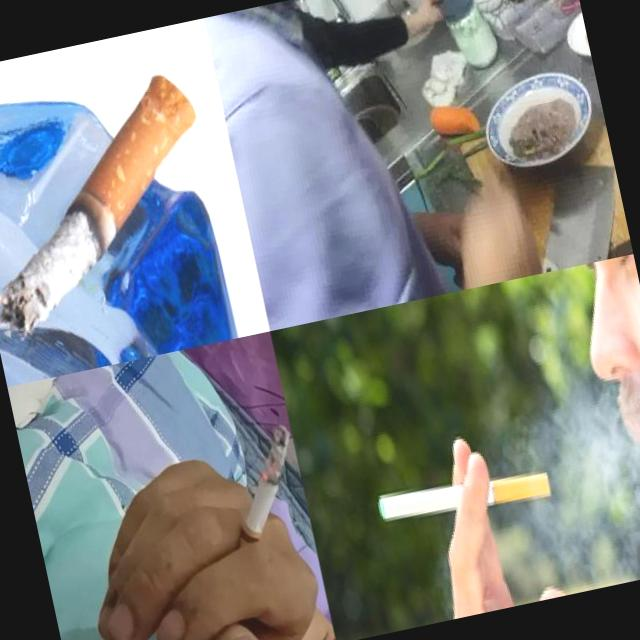smoke: (0, 65, 234, 338), (207, 421, 318, 576), (376, 458, 552, 532)
